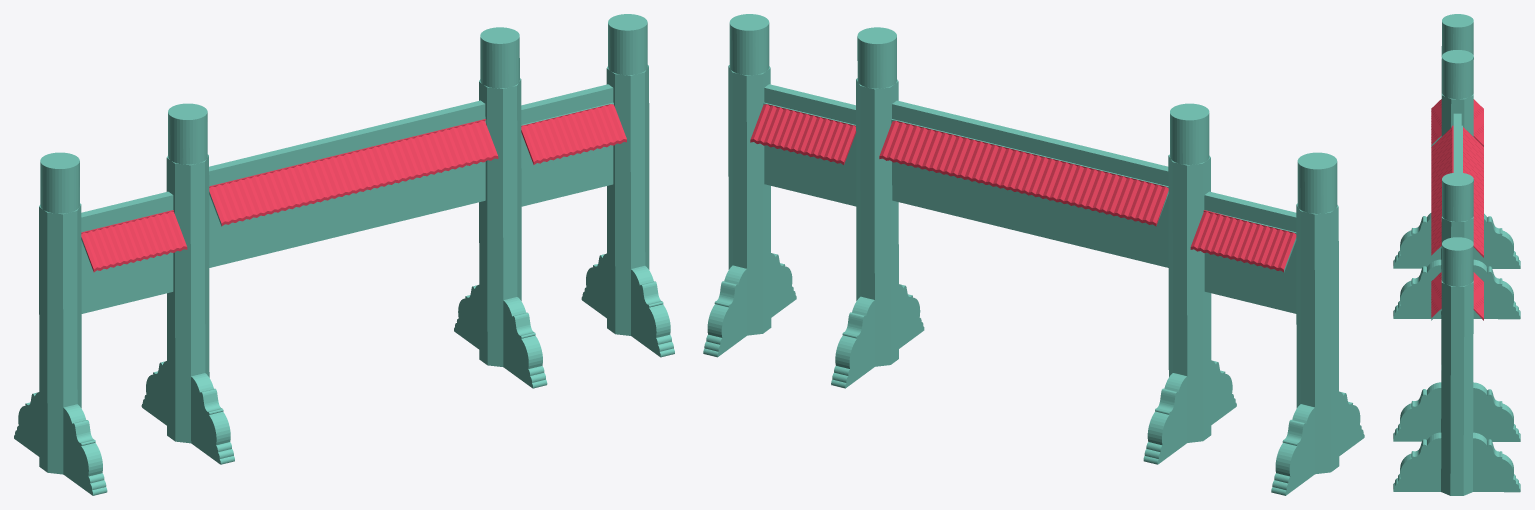
File: station.fbx
3 views of the same model, side by side, from view 1: azimuth 30°, elevation 25°; view 2: azimuth 150°, elevation 25°; view 3: azimuth 270°, elevation 25° (orthographic). The views are drawn at different scales.
Visible parts, largest first — view 1: 牌坊; view 2: 牌坊; view 3: 牌坊.
Part boxes in pixels (bbox=[...]): 牌坊: bbox=[14, 14, 674, 495]; 牌坊: bbox=[703, 14, 1364, 495]; 牌坊: bbox=[1393, 14, 1520, 495].
Size of the model in its own units: 4241 by 2172 by 966.
